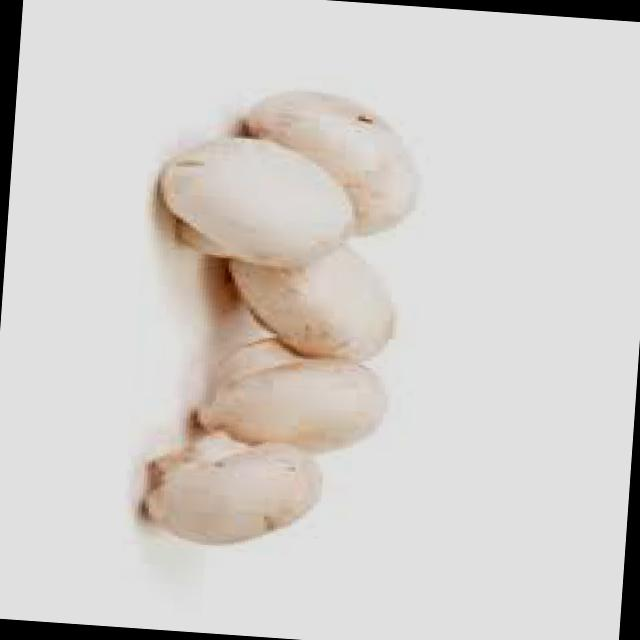Agaricus bisporus: (155, 130, 359, 274), (258, 88, 428, 245), (198, 326, 396, 454), (213, 237, 409, 365), (137, 427, 321, 552)
